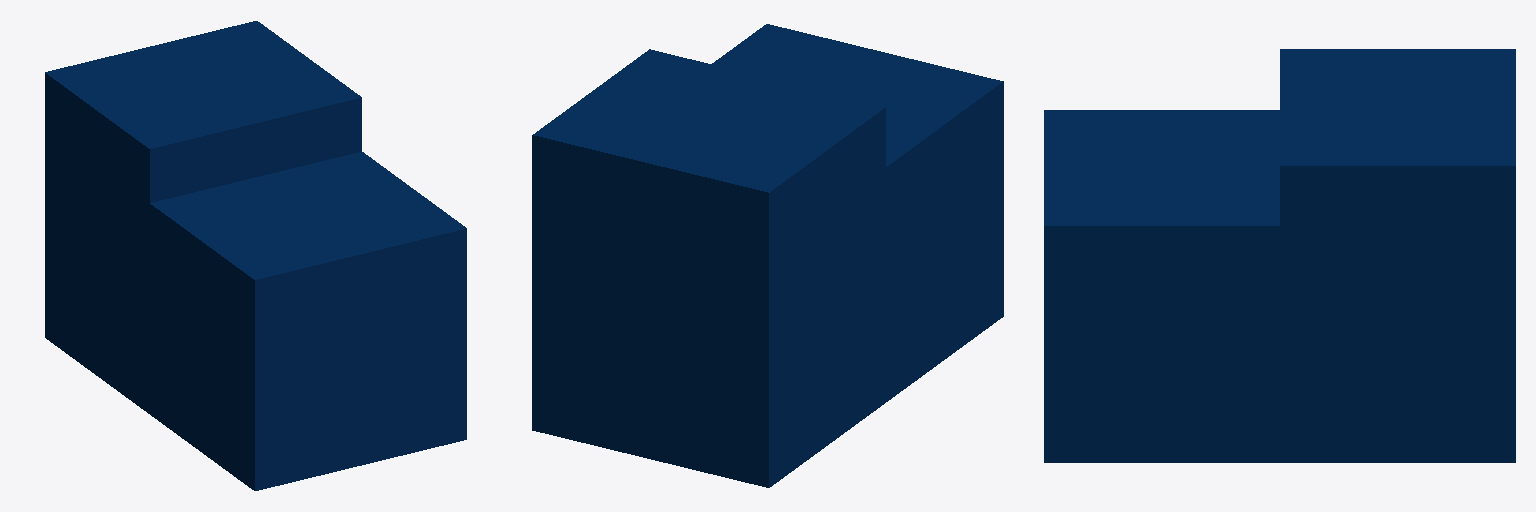
URDF robot description (agv):
<robot name="agv">
<link name="part_1">
<visual>
<origin xyz="-0.35000000000000003331 0 0" rpy="0 -0 0" />
<geometry>
<mesh filename="package://hc10_with_hand/meshes/agv2/part_1.stl"/>
</geometry>
<material name="part_1_material">
<color rgba="0.043137254901960783715 0.21568627450980393245 0.40392156862745098866 1.0"/>
</material>
</visual>
<collision>
<origin xyz="-0.35000000000000003331 0 0" rpy="0 -0 0" />
<geometry>
<mesh filename="package://hc10_with_hand/meshes/agv2/part_1.stl"/>
</geometry>
</collision>
<inertial>
<origin xyz="-5.5511151231257827021e-17 0.63400000000000000799 0.37981666666666674681" rpy="0 0 0"/>
<mass value="4945.500000000001819" />
<inertia ixx="837.31419627625041358" ixy="1.0274208650518092216e-13"  ixz="1.4222477333000753134e-14" iyy="451.51244427625027811" iyz="-62.245216950000028078" izz="789.68425200000012865" />
</inertial>
</link>

<link name="arm_position">
<inertial>
<origin xyz="0 0 0" rpy="0 0 0" />
<mass value="1e-9" />
<inertia ixx="0" ixy="0" ixz="0" iyy="0" iyz="0" izz="0" />
</inertial>
</link>
<joint name="arm_position_frame" type="fixed">
<origin xyz="-1.6656406986375213093e-16 0.29999999999999982236 0.66500000000000036859" rpy="0 -0 -1.570796326794896558" />
<parent link="part_1" />
<child link="arm_position" />
<axis xyz="0 0 0"/>
</joint>


</robot>

--- Facts derived from the render (not from the file) ---
Views: 3 orthographic renders of the robot side by side, from view 1: azimuth 30°, elevation 25°; view 2: azimuth 150°, elevation 25°; view 3: azimuth 270°, elevation 25°.
Model agv with 2 links and 1 joints (1 fixed), rooted at part_1, posed every joint at zero.
Visible links, largest first — view 1: part_1; view 2: part_1; view 3: part_1.
Boxes of the visible links, x1=… form: part_1: x1=45, y1=21, x2=466, y2=490; part_1: x1=532, y1=24, x2=1003, y2=487; part_1: x1=1044, y1=49, x2=1515, y2=462.
Bounding box of the posed robot: 0.7 × 1.2 × 0.835 m (x, y, z).
1 mesh visuals loaded from 1 distinct referenced files (1 binary STL).